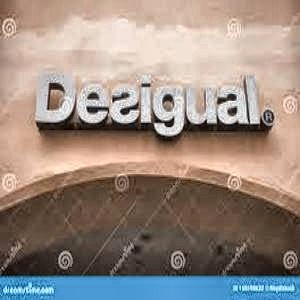desigual: (264, 30, 294, 91)
